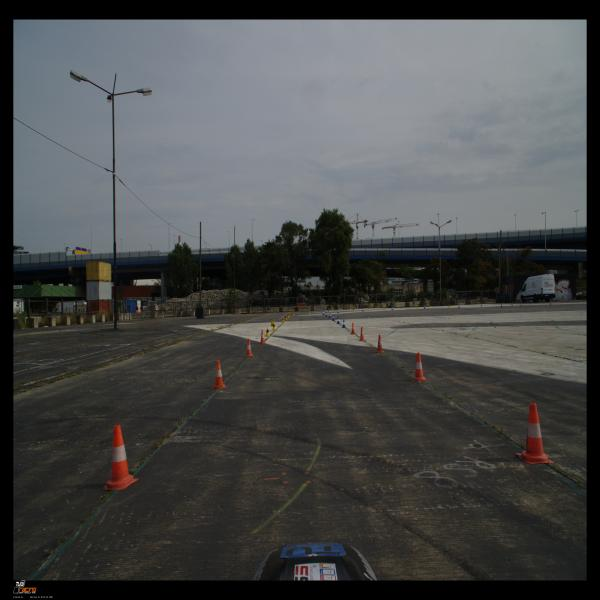blue_cone: (342, 319, 346, 328), (337, 317, 340, 324), (332, 315, 335, 321), (329, 313, 332, 318), (325, 312, 328, 316), (500, 304, 503, 308), (337, 310, 339, 314), (322, 311, 324, 315), (362, 308, 364, 312), (392, 306, 394, 310), (424, 305, 426, 309), (458, 305, 460, 308)
orange_cone: (100, 424, 140, 490), (516, 403, 554, 464), (210, 360, 228, 389), (411, 352, 428, 381), (244, 338, 254, 358), (375, 334, 385, 353), (258, 329, 267, 344), (358, 327, 366, 341), (350, 322, 356, 334), (520, 302, 523, 307), (549, 300, 552, 305)
yellow_cone: (264, 326, 270, 337), (271, 321, 277, 330), (281, 316, 285, 323), (271, 321, 275, 327), (284, 314, 288, 320), (286, 313, 290, 318), (292, 311, 295, 316), (511, 302, 514, 306), (288, 312, 290, 317), (308, 310, 310, 314), (328, 308, 330, 312), (353, 308, 355, 312), (384, 306, 386, 310), (417, 305, 419, 309), (448, 304, 450, 308), (480, 303, 482, 307)
